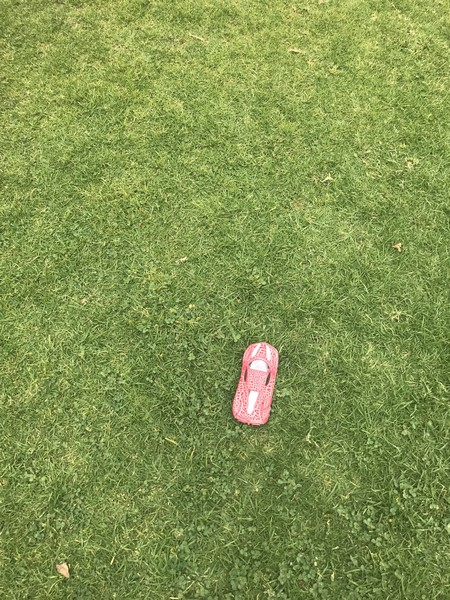RC: (230, 342, 281, 427)
